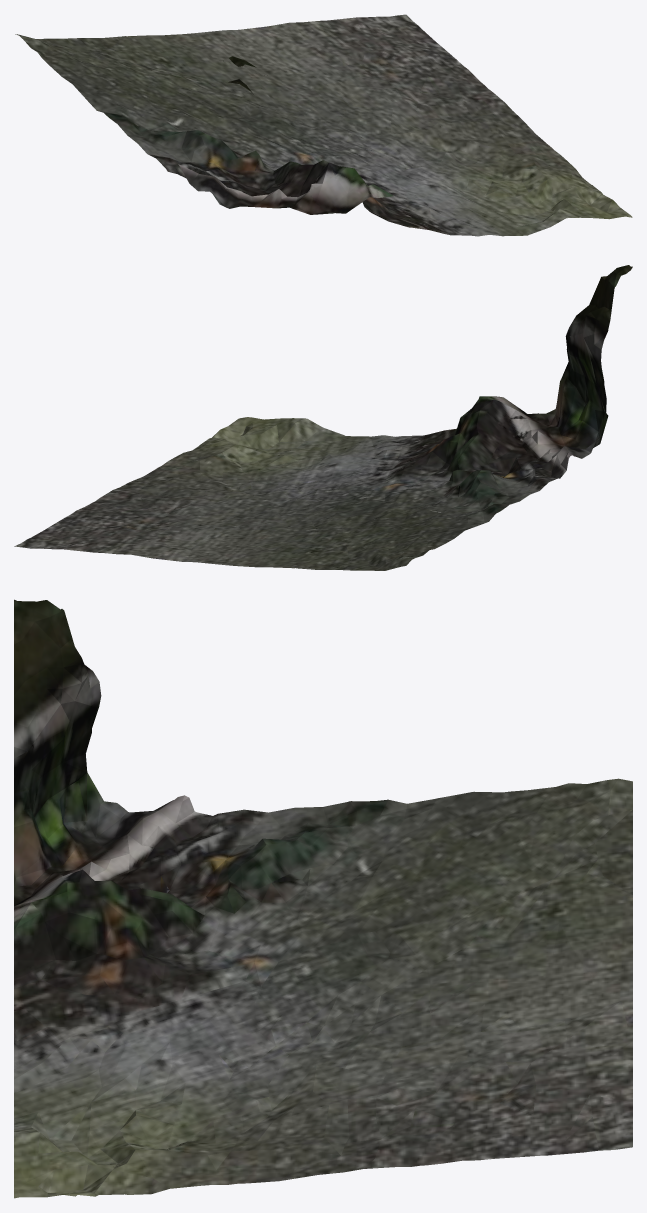
3 renders of one model, top to bottom at view 1: azimuth 30°, elevation 25°; view 2: azimuth 150°, elevation 25°; view 3: azimuth 270°, elevation 25°, orthographic. The views are drawn at different scales.
Bounding box in the file's own units: 0.8374 × 0.5148 × 0.8374.
3 materials, 3 textured.
